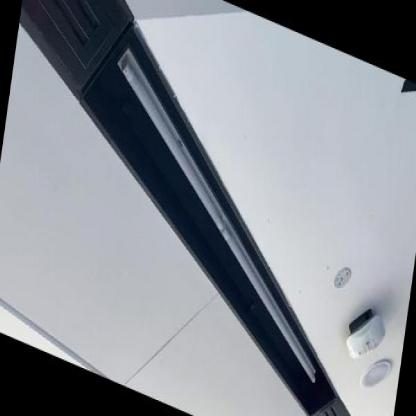light_off: (80, 25, 354, 400)
